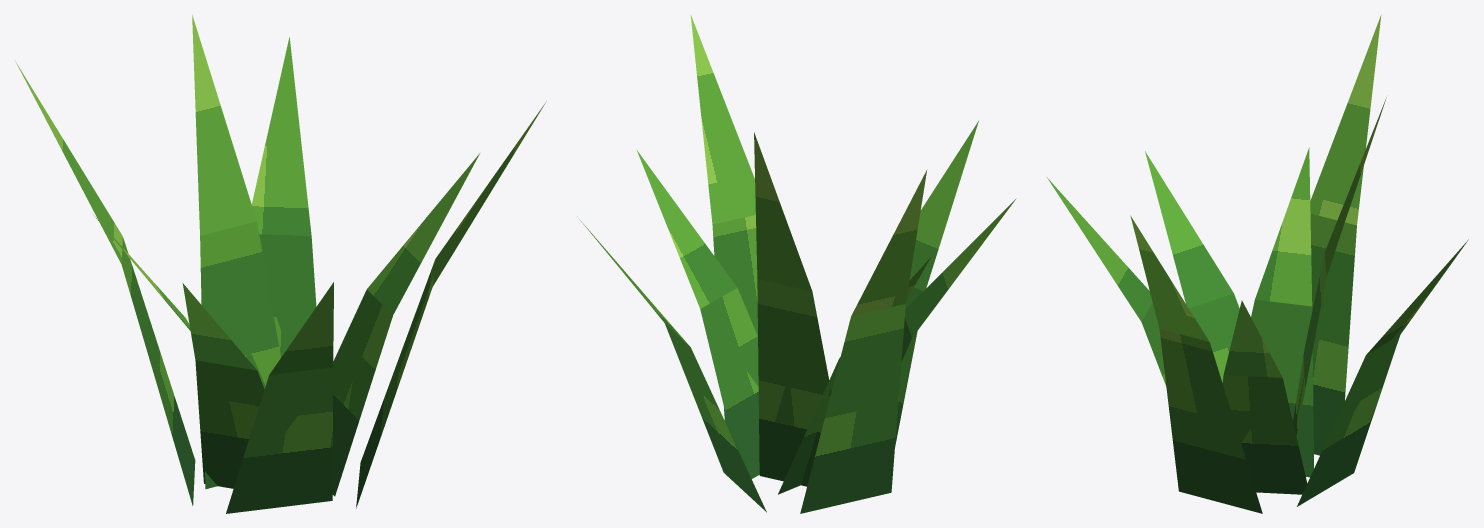
Rendered from grass_tuft_a.glb.
3 views of the same model, side by side, from view 1: azimuth 30°, elevation 25°; view 2: azimuth 150°, elevation 25°; view 3: azimuth 270°, elevation 25° (orthographic). The views are drawn at different scales.
Visible parts, largest first — view 1: grass_tuft_a; view 2: grass_tuft_a; view 3: grass_tuft_a.
Boxes of the visible parts, x1,y1,x2,y2 form: grass_tuft_a: (15,14,546,513); grass_tuft_a: (577,15,1016,513); grass_tuft_a: (1047,15,1468,513).
Bounding box in the file's own units: 0.2855 × 0.2937 × 0.2984.
Materials: 1 (1 with a texture image).
